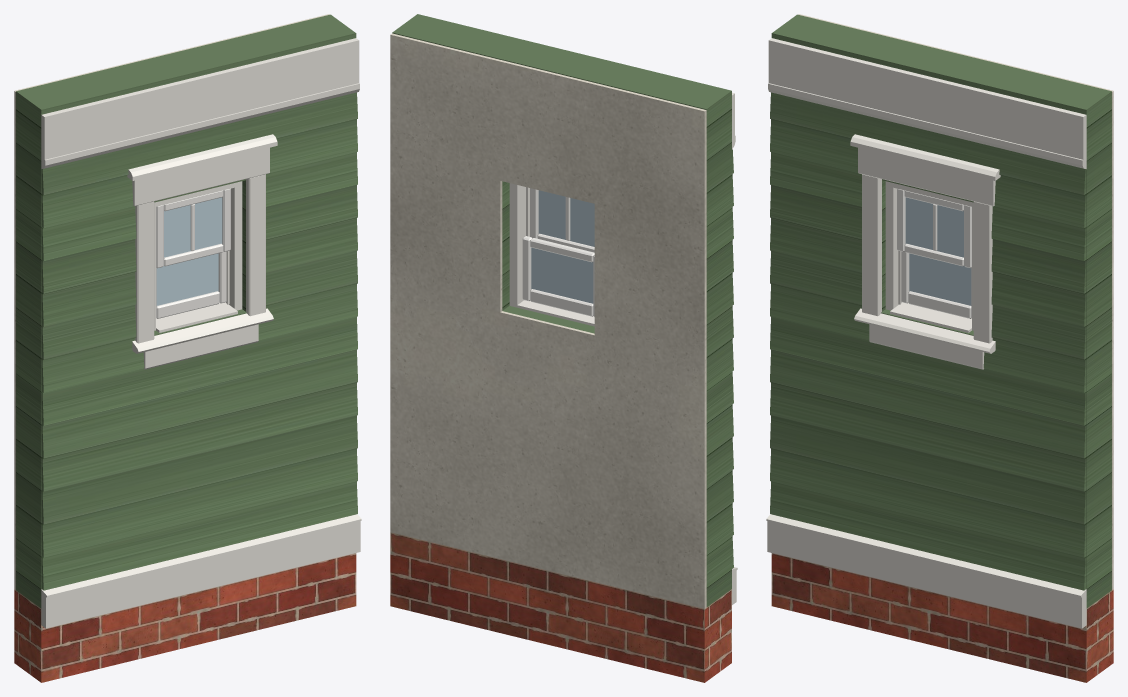
File: wall_siding_small_window.glb
3 views of the same model, side by side, from view 1: azimuth 30°, elevation 25°; view 2: azimuth 150°, elevation 25°; view 3: azimuth 330°, elevation 25° (orthographic).
Parts seen in each view (by area): view 1: wall_siding_small_window_siding, wall_siding_small_window_trim, wall_siding_small_window_brick, wall_siding_small_window_glass, wall_siding_small_window_sash, wall_siding_small_window_frame, wall_siding_small_window_plaster; view 2: wall_siding_small_window_plaster, wall_siding_small_window_brick, wall_siding_small_window_siding, wall_siding_small_window_glass, wall_siding_small_window_sash, wall_siding_small_window_frame, wall_siding_small_window_trim; view 3: wall_siding_small_window_siding, wall_siding_small_window_trim, wall_siding_small_window_brick, wall_siding_small_window_glass, wall_siding_small_window_sash, wall_siding_small_window_frame, wall_siding_small_window_plaster.
Boxes of the visible parts, x1=… form: wall_siding_small_window_siding: x1=16, y1=14, x2=357, y2=608; wall_siding_small_window_trim: x1=41, y1=38, x2=361, y2=628; wall_siding_small_window_brick: x1=14, y1=553, x2=356, y2=682; wall_siding_small_window_glass: x1=156, y1=197, x2=222, y2=305; wall_siding_small_window_sash: x1=156, y1=188, x2=230, y2=318; wall_siding_small_window_frame: x1=154, y1=181, x2=242, y2=330; wall_siding_small_window_plaster: x1=14, y1=14, x2=329, y2=589; wall_siding_small_window_plaster: x1=390, y1=33, x2=706, y2=608; wall_siding_small_window_brick: x1=390, y1=532, x2=731, y2=682; wall_siding_small_window_siding: x1=392, y1=14, x2=733, y2=606; wall_siding_small_window_glass: x1=531, y1=190, x2=594, y2=303; wall_siding_small_window_sash: x1=522, y1=188, x2=594, y2=316; wall_siding_small_window_frame: x1=509, y1=183, x2=529, y2=307; wall_siding_small_window_trim: x1=517, y1=92, x2=737, y2=604; wall_siding_small_window_siding: x1=770, y1=14, x2=1111, y2=608; wall_siding_small_window_trim: x1=766, y1=38, x2=1086, y2=628; wall_siding_small_window_brick: x1=771, y1=553, x2=1113, y2=682; wall_siding_small_window_glass: x1=905, y1=197, x2=971, y2=305; wall_siding_small_window_sash: x1=897, y1=188, x2=971, y2=318; wall_siding_small_window_frame: x1=885, y1=181, x2=973, y2=330; wall_siding_small_window_plaster: x1=798, y1=14, x2=1113, y2=589.
Bounding box in the file's own units: 2 × 3.48 × 0.382.
Materials: 7 (3 with a texture image).
